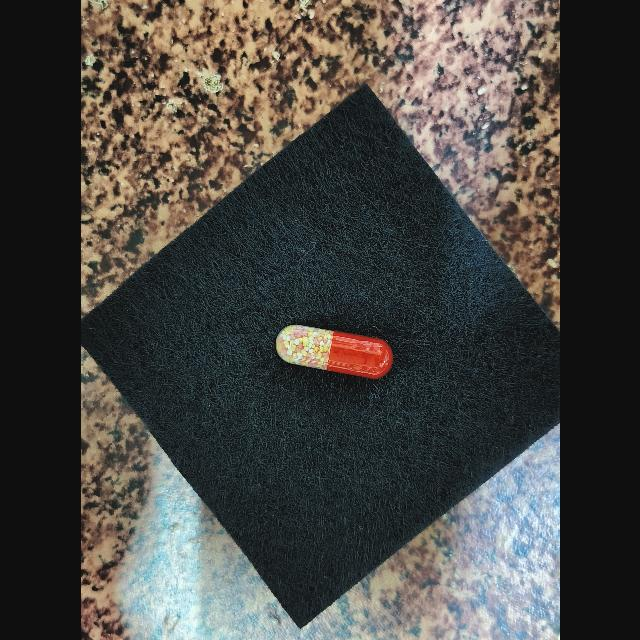Intact Capsule: (275, 325, 392, 379)
